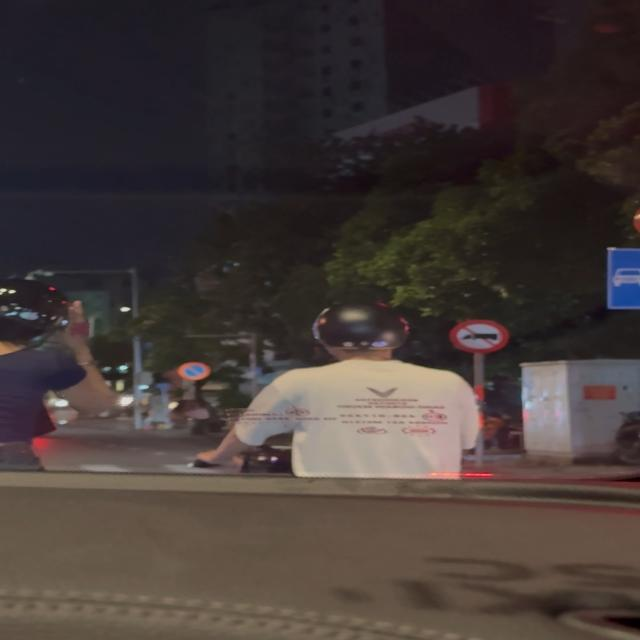Bien bao cam xe so-mi ro-mooc: (446, 318, 512, 356)
